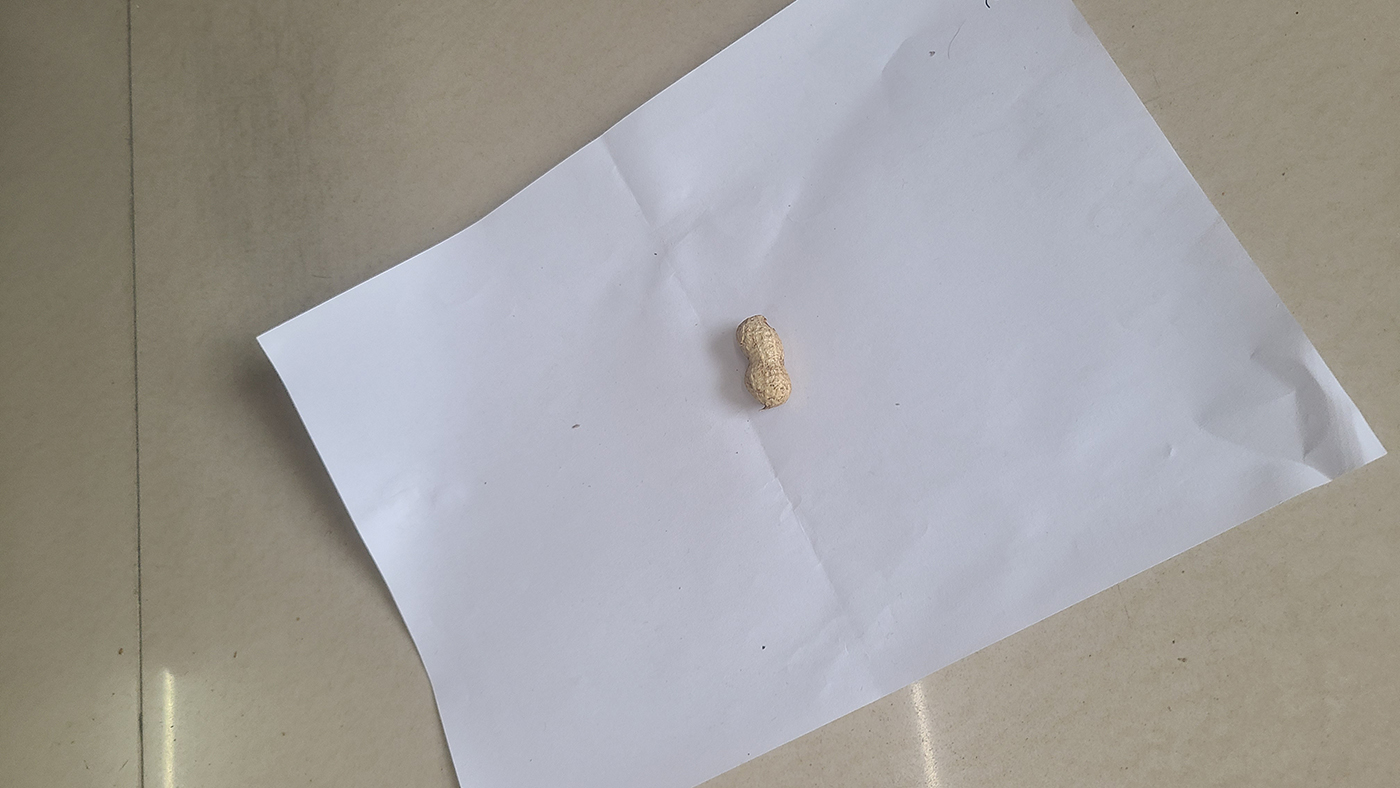h: (736, 314, 793, 408)
